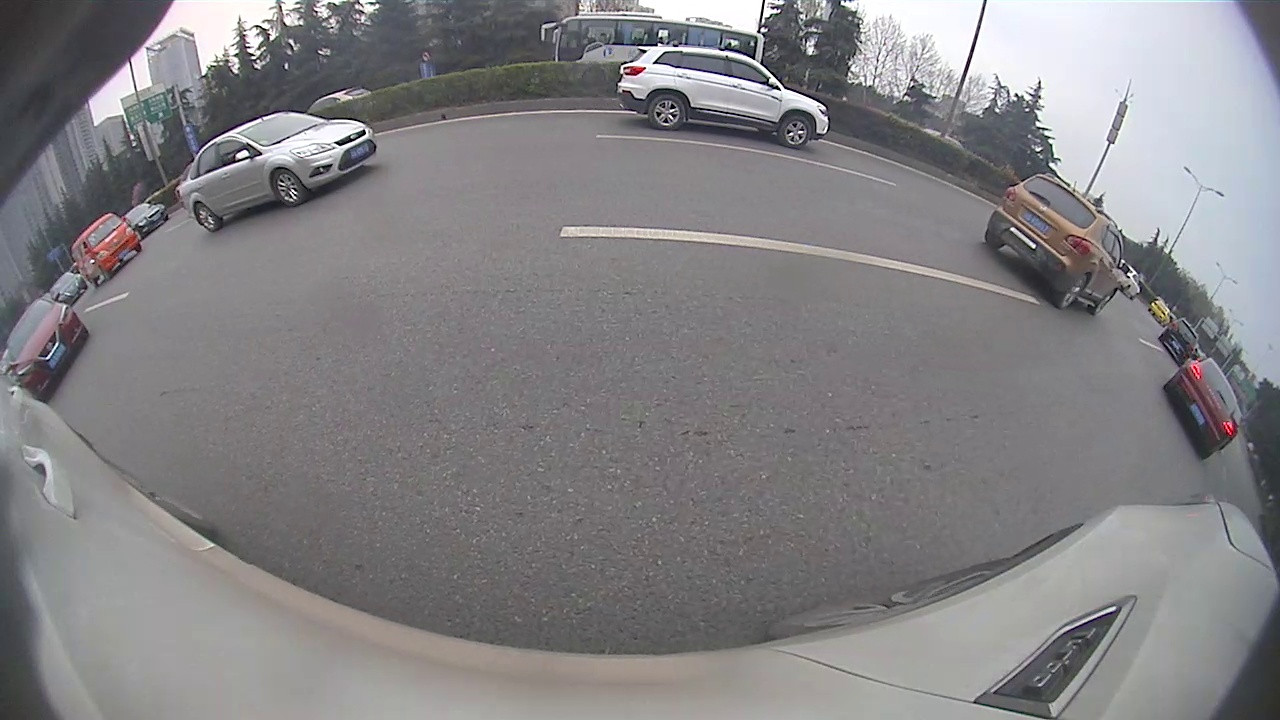car: (178, 111, 380, 235), (614, 45, 831, 150), (986, 173, 1124, 318), (2, 296, 89, 402), (1164, 356, 1241, 463), (70, 213, 141, 288), (1160, 317, 1199, 366), (119, 204, 171, 239)
front: (270, 168, 303, 208), (776, 114, 813, 149)
rear: (647, 93, 687, 132), (1059, 274, 1087, 311), (194, 203, 218, 234)
truck: (540, 13, 764, 66)
